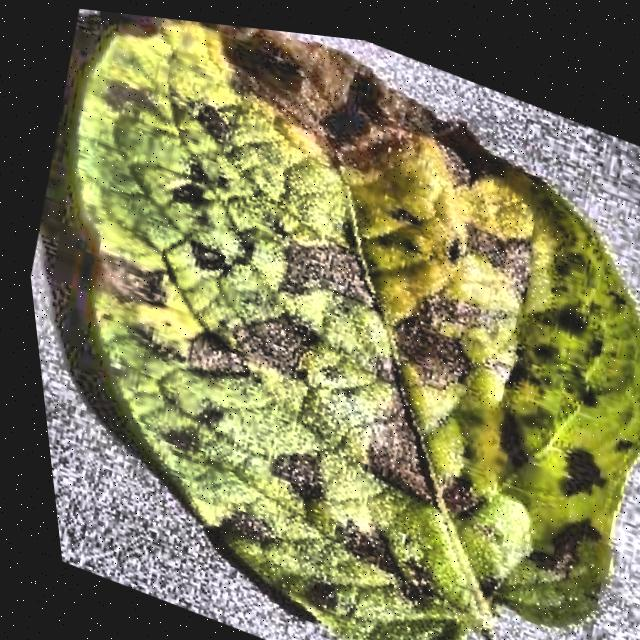Potato_leaf_early_blight: (70, 19, 640, 640)
